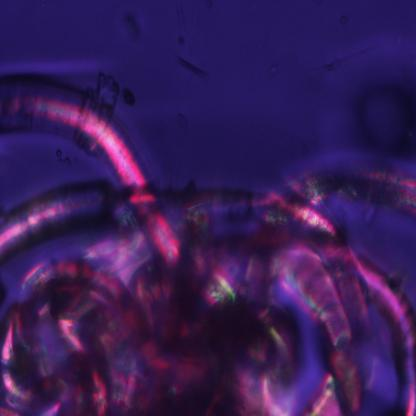Microfibre: (0, 88, 416, 415)
